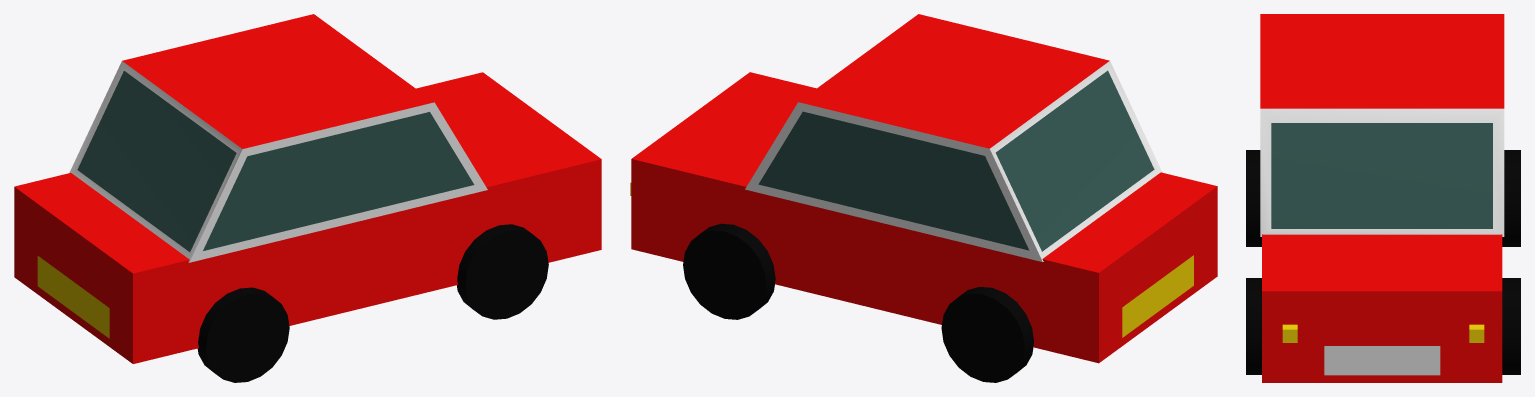
Rendered from Red_Car.obj.
The picture shows the model from 3 angles, left to right: view 1: azimuth 30°, elevation 25°; view 2: azimuth 150°, elevation 25°; view 3: azimuth 270°, elevation 25°; orthographic projection.
Parts seen in each view (by area): view 1: pCylinder73; view 2: pCylinder73; view 3: pCylinder73.
Boxes of the visible parts, x1,y1,x2,y2 form: pCylinder73: (14,14,601,382); pCylinder73: (630,14,1217,382); pCylinder73: (1246,14,1520,382).
Bounding box in the file's own units: 6.02 × 2.73 × 2.96.
